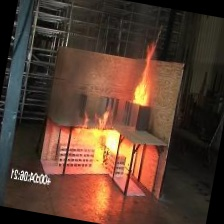fire: (116, 33, 170, 118), (82, 116, 132, 178)
